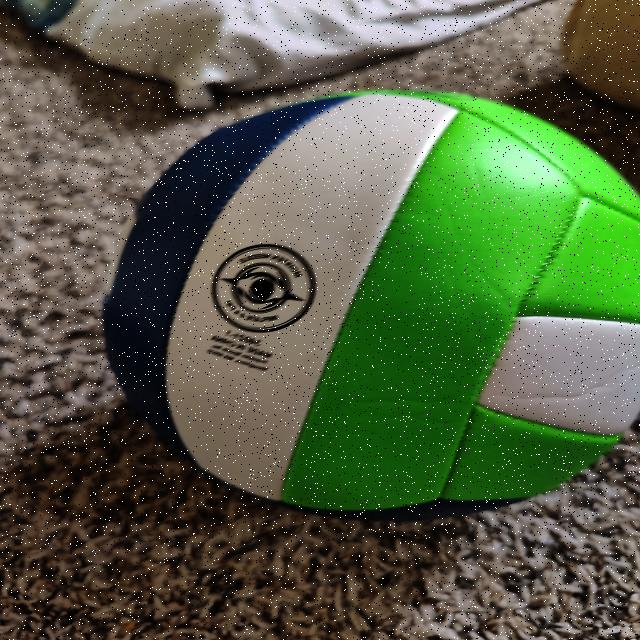ball: (106, 82, 640, 520)
